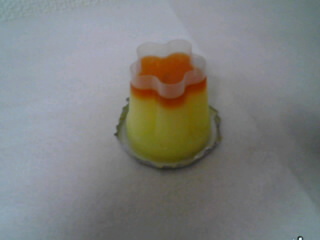001_classes: (106, 41, 227, 174)
